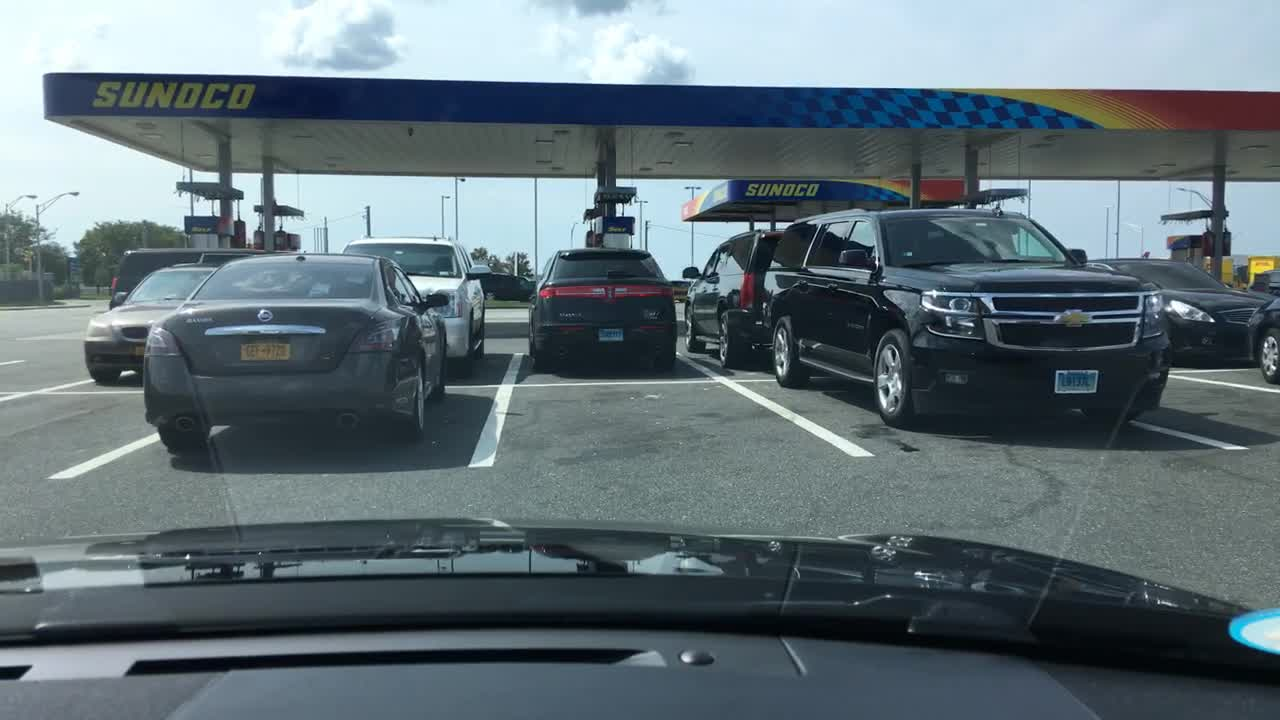car: (761, 202, 1171, 426), (140, 247, 449, 454), (336, 234, 489, 369), (525, 244, 678, 378), (1085, 257, 1270, 366), (82, 263, 217, 385), (680, 227, 784, 366), (106, 248, 283, 310), (1244, 286, 1278, 385), (470, 272, 537, 301), (1239, 265, 1277, 293)
